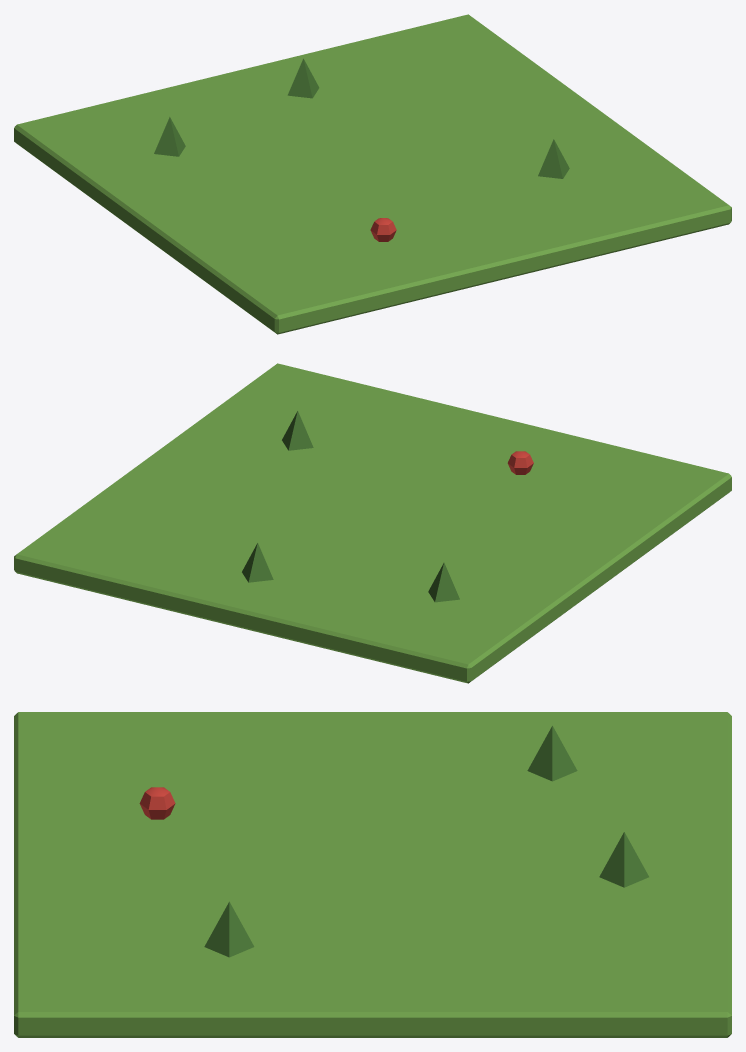
Rendered from PR_Building_Cim.fbx.
3 renders of one model, top to bottom at view 1: azimuth 30°, elevation 25°; view 2: azimuth 150°, elevation 25°; view 3: azimuth 270°, elevation 25°, orthographic. The views are drawn at different scales.
Parts seen in each view (by area): view 1: PR_Building_Cim; view 2: PR_Building_Cim; view 3: PR_Building_Cim.
Part boxes in pixels (<box>): PR_Building_Cim: <box>14,14,731,334</box>; PR_Building_Cim: <box>14,363,731,683</box>; PR_Building_Cim: <box>14,712,731,1037</box>.
Bounding box in the file's own units: 1 × 0.11 × 1.
1 material, 1 textured.
